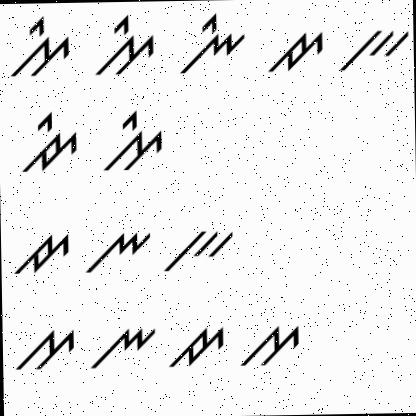ja: (262, 23, 329, 79), (8, 222, 72, 280), (167, 315, 226, 370)
ji: (12, 107, 82, 175)
nya: (90, 315, 160, 374), (82, 220, 152, 278)
nyi: (174, 10, 250, 75)
sa: (15, 316, 78, 378), (238, 314, 306, 368)
si: (102, 102, 168, 174), (90, 9, 156, 80), (8, 13, 74, 78)
